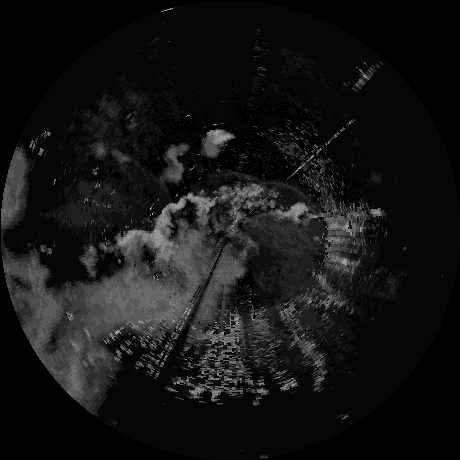frontgust: (263, 181, 319, 208), (222, 172, 261, 180)
